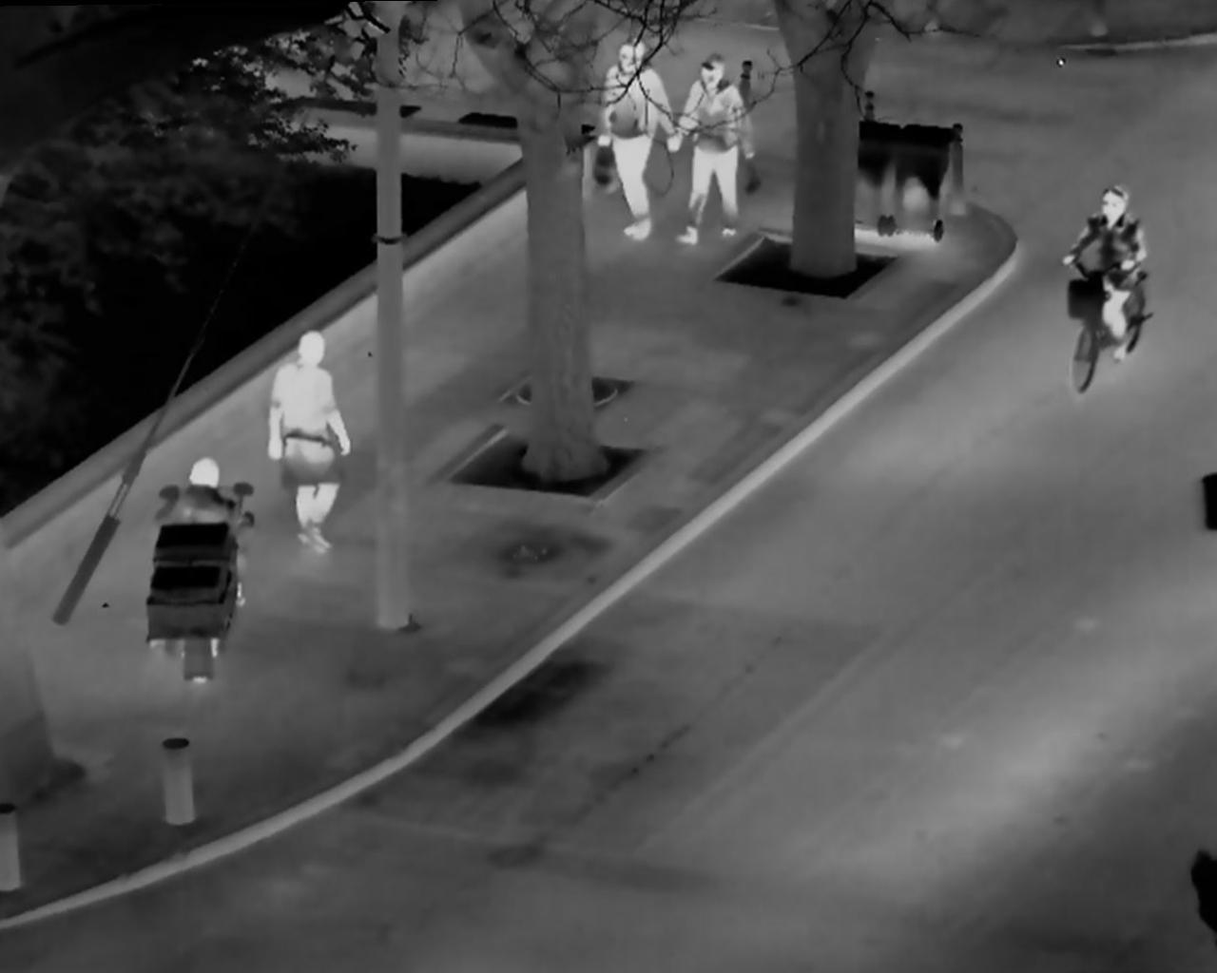person: (139, 439, 257, 679), (253, 329, 361, 572), (1061, 170, 1153, 395), (666, 46, 755, 258), (586, 28, 670, 246)
